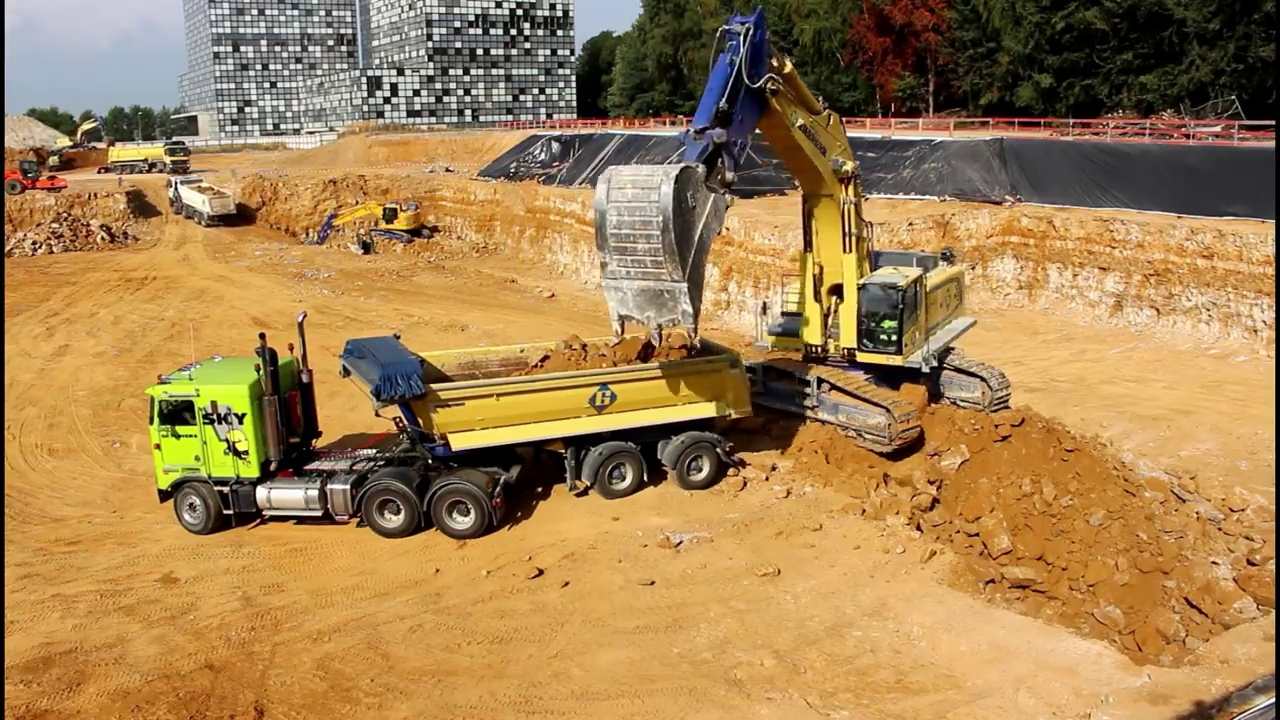compactor: (5, 158, 68, 199)
excavator: (590, 3, 1018, 459), (302, 196, 443, 259), (43, 113, 121, 169)
truck: (137, 307, 761, 543), (164, 172, 245, 234), (104, 134, 195, 181)
